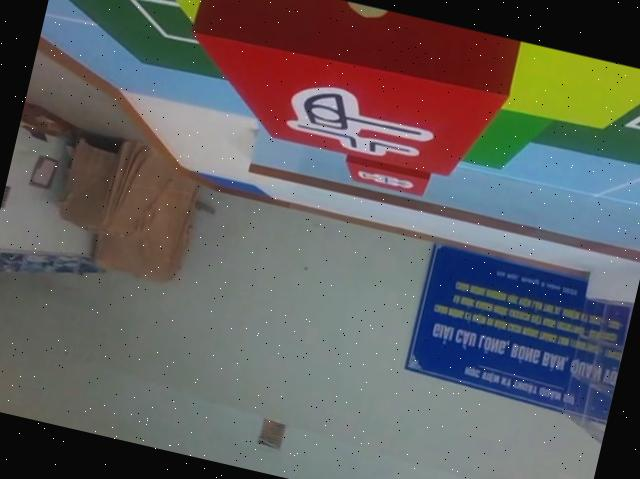R2 Real: (167, 0, 524, 194)
